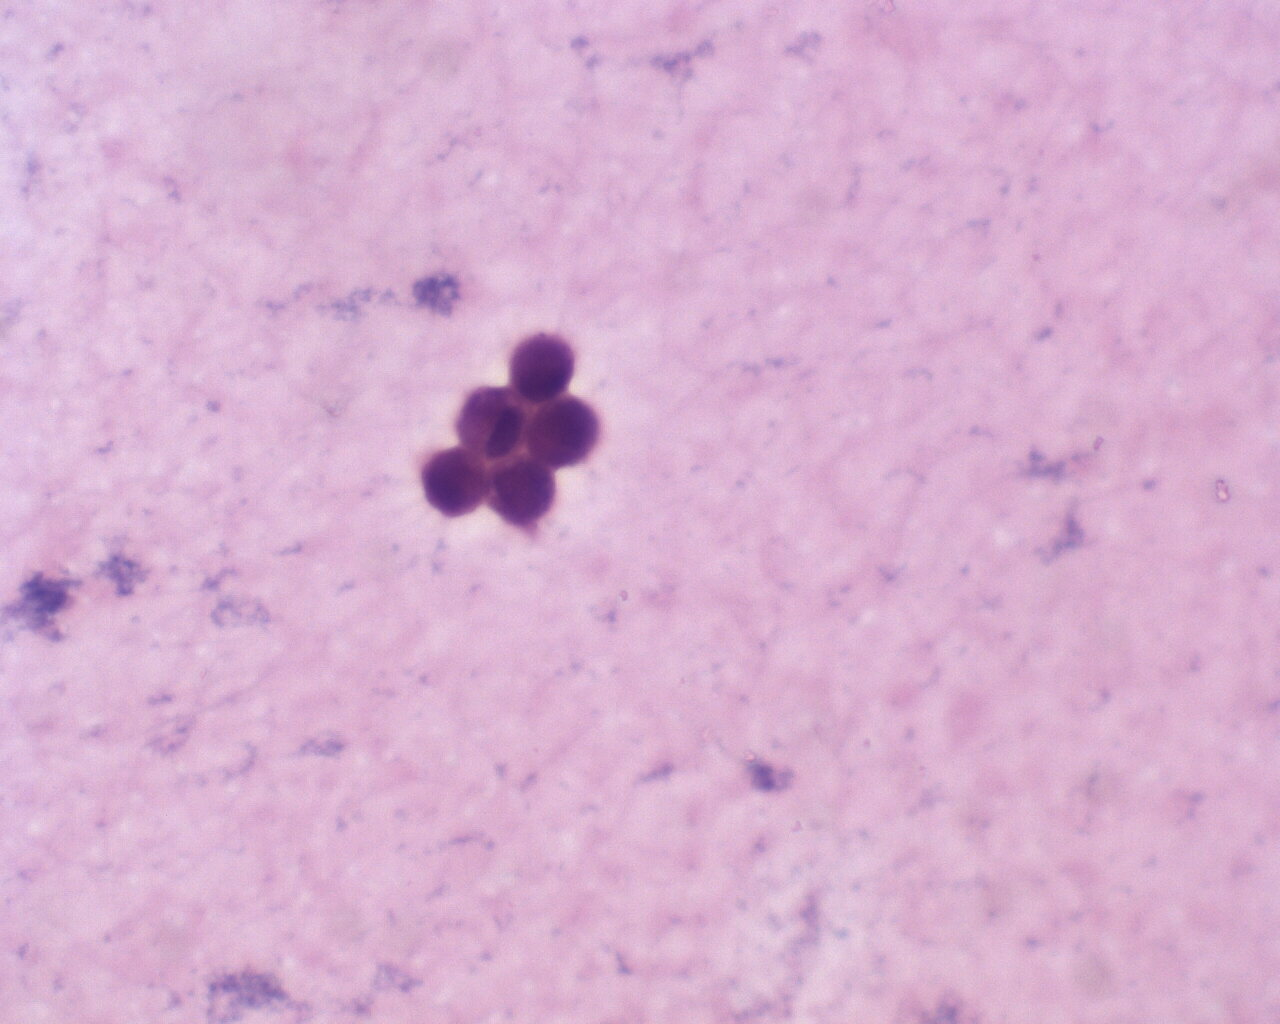ab: (526, 397, 605, 473), (504, 325, 579, 405), (421, 444, 486, 522), (489, 457, 558, 530)
